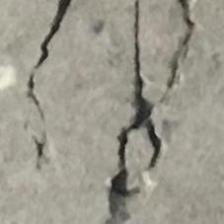Crack: (39, 0, 223, 224)
